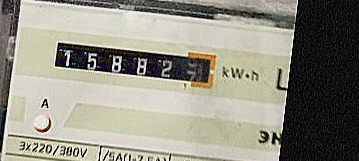1: (60, 47, 71, 66)
2: (159, 57, 173, 78)
5: (82, 49, 98, 70)
7: (183, 66, 196, 80)
8: (133, 53, 148, 76), (109, 52, 123, 73)
screen: (47, 32, 220, 92)
